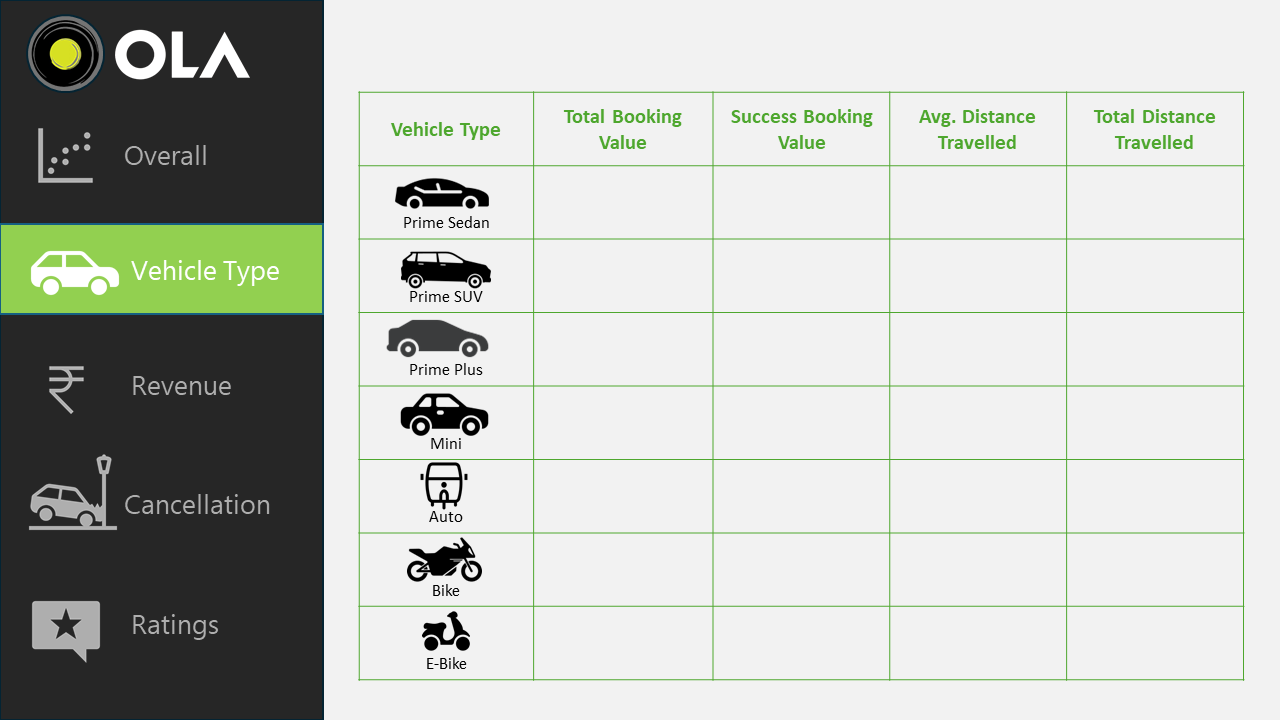

Layout of this report page (visuals, bound fields, positions):
{"tool":"powerbi","page":{"name":"Vehicle Type","canvas":[1280,720],"ordinal":1},"visuals":[{"type":"actionButton","box":[1.2,107.4,322.1,91.7],"z":0},{"type":"actionButton","box":[0,337.8,322.1,91.7],"z":1000},{"type":"actionButton","box":[0,450,322.1,91.7],"z":2000},{"type":"actionButton","box":[1.2,577.9,322.1,91.7],"z":3000},{"type":"card","fields":{"Values":["Sum(bookings-July.Booking_Value)"]},"box":[531,166,179.8,68.6],"z":4000},{"type":"card","fields":{"Values":["Sum(bookings-July.Booking_Value)"]},"box":[532.4,234.6,179.8,68.6],"z":5000},{"type":"card","fields":{"Values":["Sum(bookings-July.Booking_Value)"]},"box":[532.4,315.6,179.8,68.6],"z":6000},{"type":"card","fields":{"Values":["Sum(bookings-July.Booking_Value)"]},"box":[531,384.2,179.8,68.6],"z":7000},{"type":"card","fields":{"Values":["Sum(bookings-July.Booking_Value)"]},"box":[532.4,461.1,179.8,68.6],"z":8000},{"type":"card","fields":{"Values":["Sum(bookings-July.Booking_Value)"]},"box":[531,529.7,179.8,68.6],"z":9000},{"type":"card","fields":{"Values":["Sum(bookings-July.Booking_Value)"]},"box":[532.4,601,179.8,68.6],"z":10000},{"type":"card","fields":{"Values":["Sum(bookings-July.Booking_Value)"]},"box":[712.2,166,179.8,68.6],"z":11000},{"type":"card","fields":{"Values":["Sum(bookings-July.Booking_Value)"]},"box":[710.8,234.6,179.8,68.6],"z":12000},{"type":"card","fields":{"Values":["Sum(bookings-July.Booking_Value)"]},"box":[710.8,315.6,179.8,68.6],"z":13000},{"type":"card","fields":{"Values":["Sum(bookings-July.Booking_Value)"]},"box":[712.2,384.2,179.8,68.6],"z":14000},{"type":"card","fields":{"Values":["Sum(bookings-July.Booking_Value)"]},"box":[712.2,461.1,179.8,68.6],"z":15000},{"type":"card","fields":{"Values":["Sum(bookings-July.Booking_Value)"]},"box":[712.2,532.4,179.8,68.6],"z":16000},{"type":"card","fields":{"Values":["Sum(bookings-July.Booking_Value)"]},"box":[712.2,601,179.8,68.6],"z":17000},{"type":"card","fields":{"Values":["Avg(bookings-July.Ride_Distance)"]},"box":[890.6,166,179.8,68.6],"z":18000},{"type":"card","fields":{"Values":["Avg(bookings-July.Ride_Distance)"]},"box":[890.6,234.6,179.8,68.6],"z":19000},{"type":"card","fields":{"Values":["Avg(bookings-July.Ride_Distance)"]},"box":[890.6,315.6,179.8,68.6],"z":20000},{"type":"card","fields":{"Values":["Avg(bookings-July.Ride_Distance)"]},"box":[890.6,384.2,179.8,68.6],"z":21000},{"type":"card","fields":{"Values":["Avg(bookings-July.Ride_Distance)"]},"box":[891.9,461.1,179.8,68.6],"z":22000},{"type":"card","fields":{"Values":["Avg(bookings-July.Ride_Distance)"]},"box":[891.9,532.4,179.8,68.6],"z":23000},{"type":"card","fields":{"Values":["Avg(bookings-July.Ride_Distance)"]},"box":[891.9,601,179.8,68.6],"z":24000},{"type":"card","fields":{"Values":["Sum(bookings-July.Ride_Distance)"]},"box":[1060.7,166,179.8,68.6],"z":25000},{"type":"card","fields":{"Values":["Sum(bookings-July.Ride_Distance)"]},"box":[1060.7,234.6,179.8,68.6],"z":26000},{"type":"card","fields":{"Values":["Sum(bookings-July.Ride_Distance)"]},"box":[1062.1,315.6,179.8,68.6],"z":27000},{"type":"card","fields":{"Values":["Sum(bookings-July.Ride_Distance)"]},"box":[1063.5,381.5,179.8,68.6],"z":28000},{"type":"card","fields":{"Values":["Sum(bookings-July.Ride_Distance)"]},"box":[1063.5,461.1,179.8,68.6],"z":29000},{"type":"card","fields":{"Values":["Sum(bookings-July.Ride_Distance)"]},"box":[1062.1,532.4,179.8,68.6],"z":30000},{"type":"card","fields":{"Values":["Sum(bookings-July.Ride_Distance)"]},"box":[1063.5,601,179.8,68.6],"z":31000},{"type":"slicer","title":"Date","fields":{"Values":["bookings-July.Date"]},"box":[967.6,18.1,275.1,66.4],"z":32000}]}

Visuals, with their boxes on the page's 1280x720 design canvas (x1, y1, x2, y2). These are canvas units, not pixel positions in the 1280x720 screenshot, which may show the page scaled, cropped or inside an application window:
actionButton: bbox=(1, 107, 323, 199)
actionButton: bbox=(0, 338, 322, 430)
actionButton: bbox=(0, 450, 322, 542)
actionButton: bbox=(1, 578, 323, 670)
card - Sum(bookings-July.Booking_Value): bbox=(531, 166, 711, 235)
card - Sum(bookings-July.Booking_Value): bbox=(532, 235, 712, 303)
card - Sum(bookings-July.Booking_Value): bbox=(532, 316, 712, 384)
card - Sum(bookings-July.Booking_Value): bbox=(531, 384, 711, 453)
card - Sum(bookings-July.Booking_Value): bbox=(532, 461, 712, 530)
card - Sum(bookings-July.Booking_Value): bbox=(531, 530, 711, 598)
card - Sum(bookings-July.Booking_Value): bbox=(532, 601, 712, 670)
card - Sum(bookings-July.Booking_Value): bbox=(712, 166, 892, 235)
card - Sum(bookings-July.Booking_Value): bbox=(711, 235, 891, 303)
card - Sum(bookings-July.Booking_Value): bbox=(711, 316, 891, 384)
card - Sum(bookings-July.Booking_Value): bbox=(712, 384, 892, 453)
card - Sum(bookings-July.Booking_Value): bbox=(712, 461, 892, 530)
card - Sum(bookings-July.Booking_Value): bbox=(712, 532, 892, 601)
card - Sum(bookings-July.Booking_Value): bbox=(712, 601, 892, 670)
card - Avg(bookings-July.Ride_Distance): bbox=(891, 166, 1070, 235)
card - Avg(bookings-July.Ride_Distance): bbox=(891, 235, 1070, 303)
card - Avg(bookings-July.Ride_Distance): bbox=(891, 316, 1070, 384)
card - Avg(bookings-July.Ride_Distance): bbox=(891, 384, 1070, 453)
card - Avg(bookings-July.Ride_Distance): bbox=(892, 461, 1072, 530)
card - Avg(bookings-July.Ride_Distance): bbox=(892, 532, 1072, 601)
card - Avg(bookings-July.Ride_Distance): bbox=(892, 601, 1072, 670)
card - Sum(bookings-July.Ride_Distance): bbox=(1061, 166, 1240, 235)
card - Sum(bookings-July.Ride_Distance): bbox=(1061, 235, 1240, 303)
card - Sum(bookings-July.Ride_Distance): bbox=(1062, 316, 1242, 384)
card - Sum(bookings-July.Ride_Distance): bbox=(1064, 382, 1243, 450)
card - Sum(bookings-July.Ride_Distance): bbox=(1064, 461, 1243, 530)
card - Sum(bookings-July.Ride_Distance): bbox=(1062, 532, 1242, 601)
card - Sum(bookings-July.Ride_Distance): bbox=(1064, 601, 1243, 670)
"Date" slicer: bbox=(968, 18, 1243, 84)
